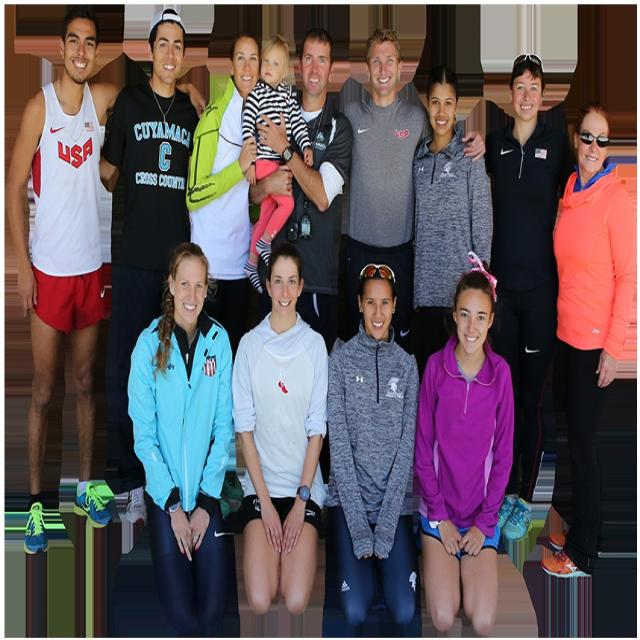body: (4, 4, 207, 557), (98, 4, 200, 527), (333, 21, 488, 362), (247, 26, 355, 487), (535, 100, 638, 581), (122, 232, 238, 639), (483, 51, 578, 540), (410, 248, 520, 639), (221, 242, 332, 620), (323, 256, 424, 630), (410, 61, 492, 384), (184, 30, 262, 366), (240, 33, 313, 295)
